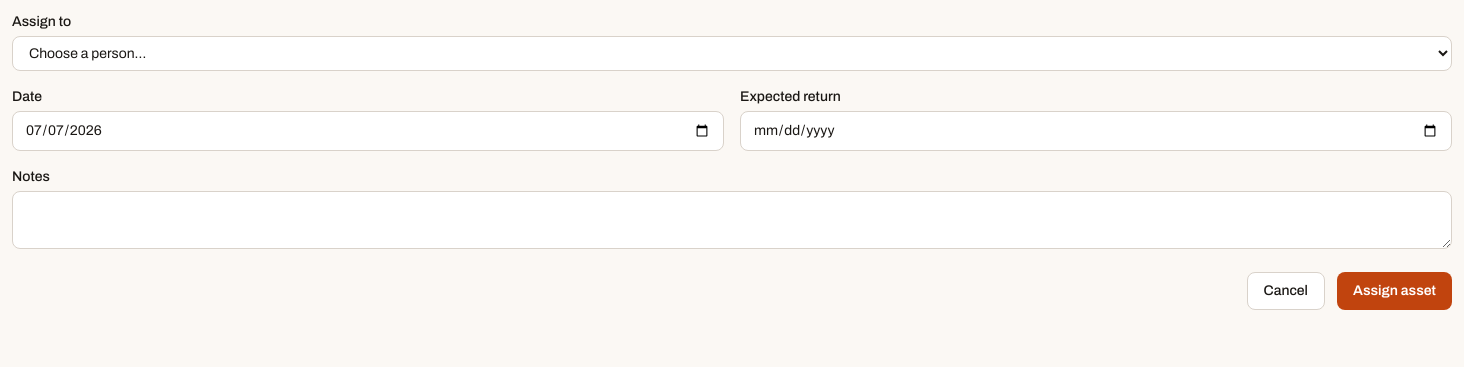
Test: AssignForm › requires a person before submitting
Click the button "Assign asset". click: (1394, 291)
box: top-left (1337, 272), bottom-right (1452, 310)
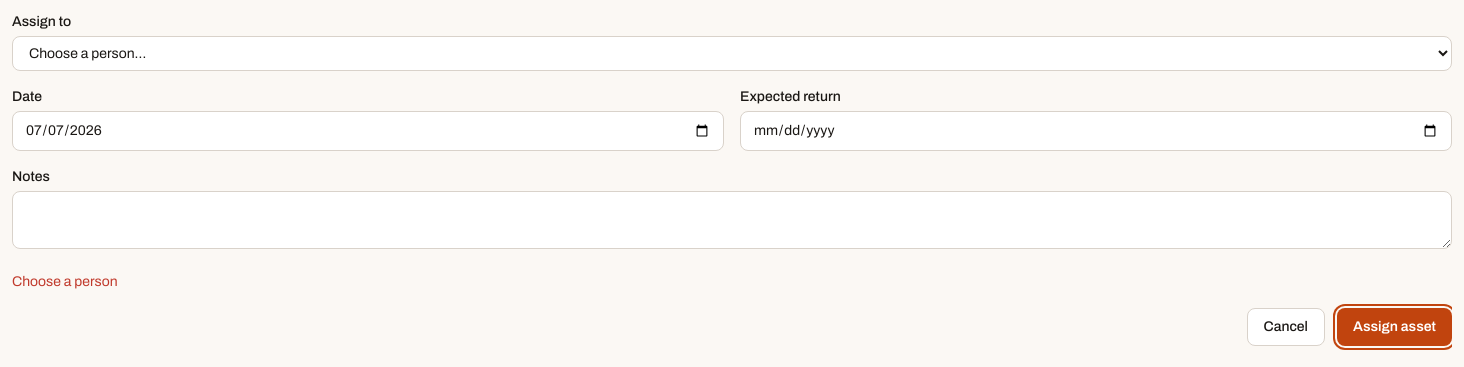
Result: the message reads "Choose a person" at top-left (12, 274), bottom-right (118, 289)
